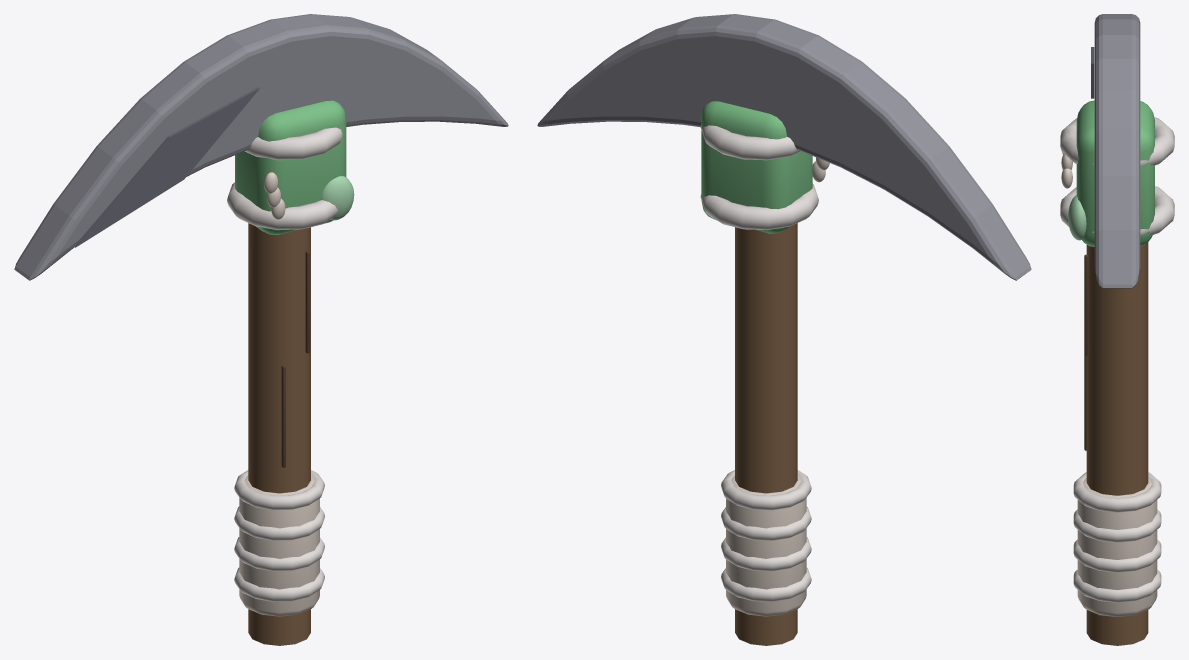
The model's file is pick1.glb.
3 renders of one model, left to right at view 1: azimuth 30°, elevation 25°; view 2: azimuth 150°, elevation 25°; view 3: azimuth 270°, elevation 25°, orthographic.
Parts seen in each view (by area): view 1: _box, _cyl.001, _box.002; view 2: _box, _cyl.001, _box.002; view 3: _box, _cyl.001, _box.002.
Boxes of the visible parts, <box> form: _box: <box>14,14,508,645</box>; _cyl.001: <box>227,127,342,616</box>; _box.002: <box>235,100,354,234</box>; _box: <box>537,14,1031,645</box>; _cyl.001: <box>700,124,829,616</box>; _box.002: <box>701,101,812,233</box>; _box: <box>1084,14,1148,645</box>; _cyl.001: <box>1060,117,1174,616</box>; _box.002: <box>1068,100,1154,246</box>.
Bounding box in the file's own units: 0.7404 × 0.8956 × 0.1551.
